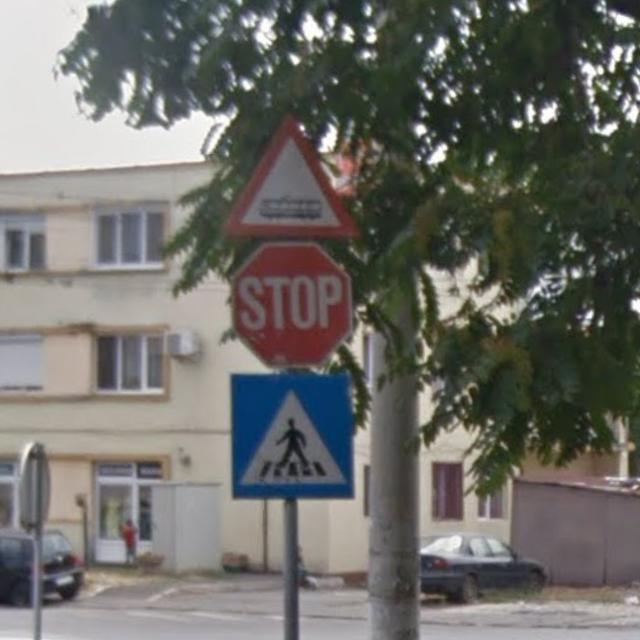info_crosswalk: (227, 372, 354, 499)
prio_stop: (226, 244, 353, 363)
